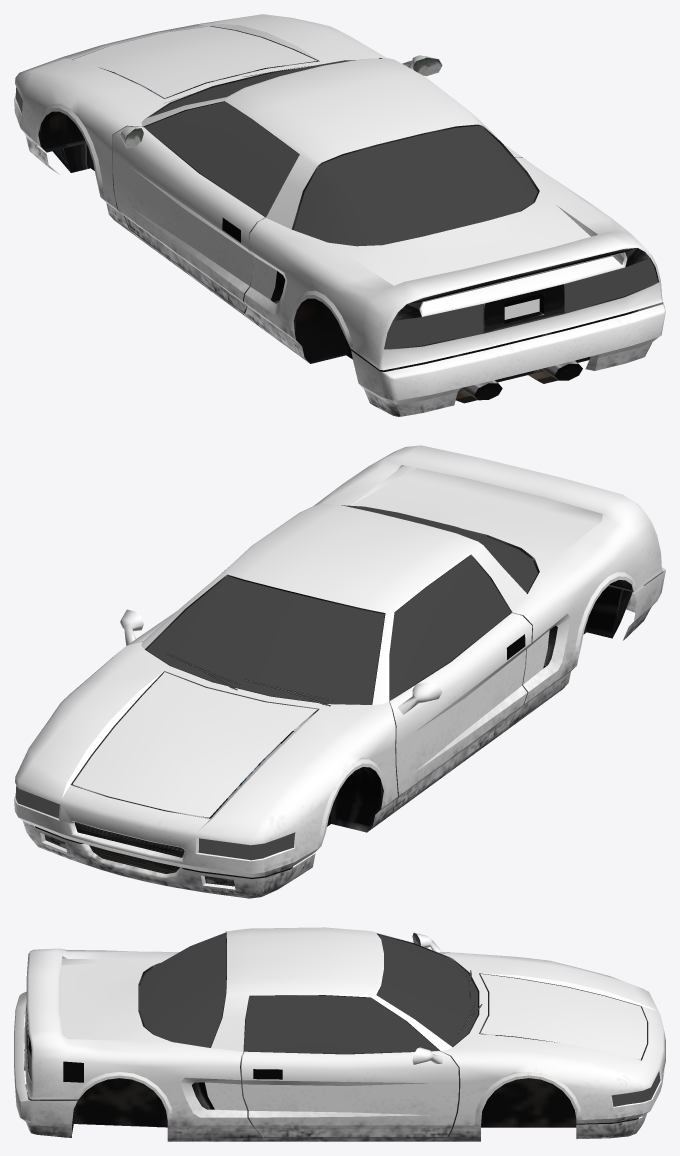
The model's file is infernus.glb.
3 renders of one model, top to bottom at view 1: azimuth 30°, elevation 25°; view 2: azimuth 150°, elevation 25°; view 3: azimuth 270°, elevation 25°, orthographic. The views are drawn at different scales.
Visible parts, largest first — view 1: chassis, door_lf_ok, bump_rear_ok, bonnet_ok, windscreen_ok, door_rf_ok; view 2: chassis, door_lf_ok, windscreen_ok, bonnet_ok, bump_front_ok, bump_rear_ok, door_rf_ok; view 3: chassis, door_rf_ok, bonnet_ok, windscreen_ok, bump_rear_ok, bump_front_ok.
Boxes of the visible parts, <box> form: chassis: <box>14,14,662,403</box>; door_lf_ok: <box>112,101,299,312</box>; bump_rear_ok: <box>351,302,665,416</box>; bonnet_ok: <box>73,26,317,97</box>; windscreen_ok: <box>151,60,355,116</box>; door_rf_ok: <box>402,55,522,157</box>; chassis: <box>14,445,662,878</box>; door_lf_ok: <box>389,555,532,809</box>; windscreen_ok: <box>146,576,384,704</box>; bonnet_ok: <box>73,672,317,817</box>; bump_front_ok: <box>23,821,315,898</box>; bump_rear_ok: <box>623,567,665,640</box>; door_rf_ok: <box>120,567,228,645</box>; chassis: <box>24,927,665,1141</box>; door_rf_ok: <box>241,995,458,1136</box>; bonnet_ok: <box>480,974,646,1059</box>; windscreen_ok: <box>377,935,477,1046</box>; bump_rear_ok: <box>14,991,77,1137</box>; bump_front_ok: <box>576,1112,649,1139</box>.
Bounding box in the file's own units: 2.46 × 1.33 × 5.46.
Materials: 17 (16 with a texture image).
